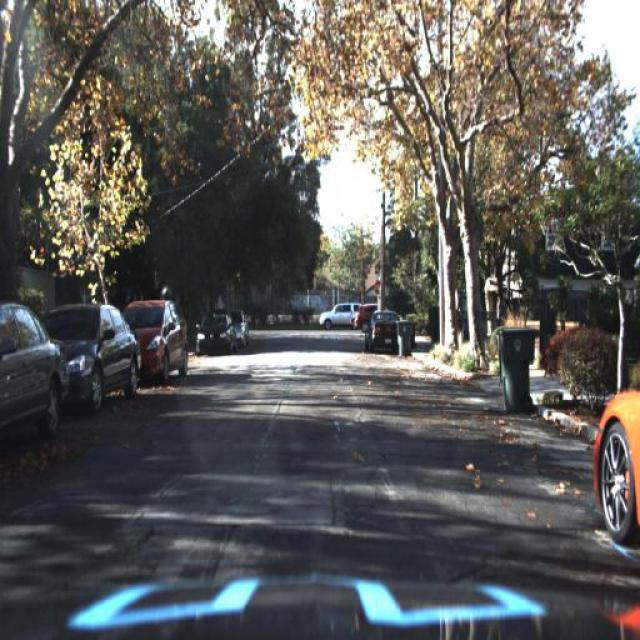car: (36, 301, 148, 417), (1, 295, 67, 455), (64, 293, 144, 423), (592, 391, 639, 558), (126, 290, 190, 380), (139, 286, 191, 392), (193, 304, 241, 351), (363, 304, 402, 348), (318, 298, 361, 332)
